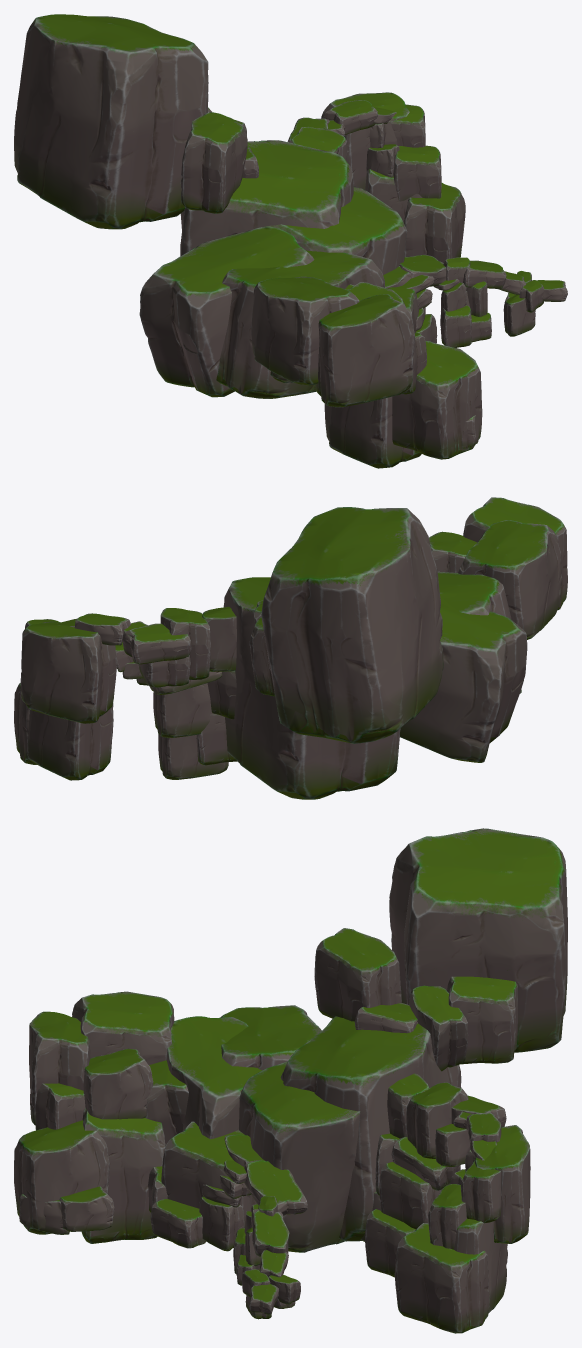
Rendered from Waterfall_Cliff.fbx.
The picture shows the model from 3 angles, top to bottom: view 1: azimuth 30°, elevation 25°; view 2: azimuth 150°, elevation 25°; view 3: azimuth 270°, elevation 25°; orthographic projection. The views are drawn at different scales.
Parts seen in each view (by area): view 1: Cliff__32_, Cliff__17_, Cliff__1_, Cliff__59_, Cliff__16_, Cliff__56_, Cliff__31_, Cliff__35_, Cliff__10_, Cliff__21_, Cliff__39_, Cliff__49_ (+15 smaller); view 2: Cliff__32_, Cliff__1_, Cliff__17_, Cliff__55_, Cliff__31_, Cliff__50_, Cliff__59_, Cliff__40_, Cliff__16_, Cliff__45_, Cliff__43_, Cliff__48_ (+9 smaller); view 3: Cliff__32_, Cliff__1_, Cliff__10_, Cliff__39_, Cliff__16_, Cliff__56_, Cliff__21_, Cliff__35_, Cliff__31_, Cliff__34_, Cliff__17_, Cliff__59_ (+29 smaller).
Part boxes in pixels (<box>): Cliff__32_: <box>14,14,208,229</box>; Cliff__17_: <box>139,226,314,397</box>; Cliff__1_: <box>180,140,353,256</box>; Cliff__59_: <box>315,294,414,407</box>; Cliff__16_: <box>216,250,384,398</box>; Cliff__56_: <box>392,341,482,459</box>; Cliff__31_: <box>251,276,359,385</box>; Cliff__35_: <box>180,112,247,213</box>; Cliff__10_: <box>264,186,407,274</box>; Cliff__21_: <box>324,396,421,468</box>; Cliff__39_: <box>403,183,465,262</box>; Cliff__49_: <box>393,145,441,201</box>; Cliff__32_: <box>261,507,443,743</box>; Cliff__1_: <box>224,577,400,799</box>; Cliff__17_: <box>400,597,527,762</box>; Cliff__55_: <box>20,621,116,723</box>; Cliff__31_: <box>458,520,562,639</box>; Cliff__50_: <box>27,704,113,780</box>; Cliff__59_: <box>463,497,567,610</box>; Cliff__40_: <box>153,683,212,737</box>; Cliff__16_: <box>437,571,521,693</box>; Cliff__45_: <box>122,623,191,664</box>; Cliff__43_: <box>160,608,210,679</box>; Cliff__48_: <box>158,734,228,779</box>; Cliff__32_: <box>389,828,567,1052</box>; Cliff__1_: <box>280,1016,461,1241</box>; Cliff__10_: <box>239,1061,360,1252</box>; Cliff__39_: <box>394,1223,489,1333</box>; Cliff__16_: <box>166,1016,261,1139</box>; Cliff__56_: <box>14,1120,109,1234</box>; Cliff__21_: <box>81,1108,165,1243</box>; Cliff__35_: <box>314,928,401,1021</box>; Cliff__31_: <box>72,991,174,1064</box>; Cliff__34_: <box>447,976,517,1064</box>; Cliff__17_: <box>220,1005,321,1070</box>; Cliff__59_: <box>29,1011,90,1125</box>.
Bounding box in the file's own units: 4312 × 3173 × 4771.
